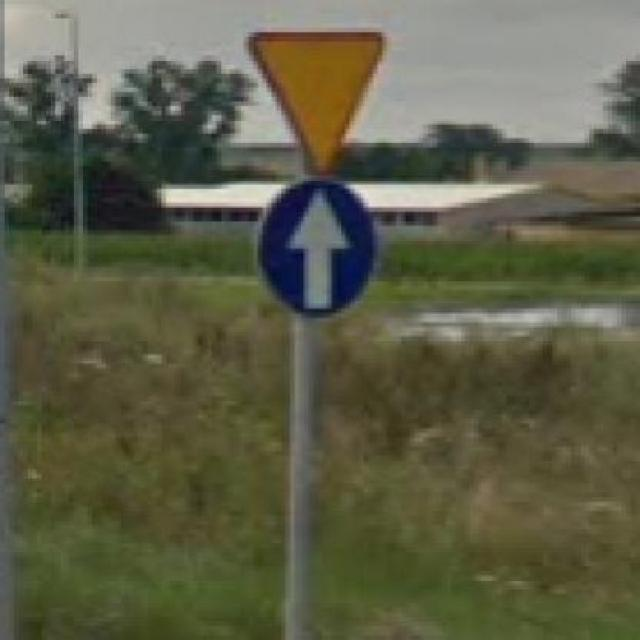Ustap pierwszenstwa: (244, 30, 391, 178)
